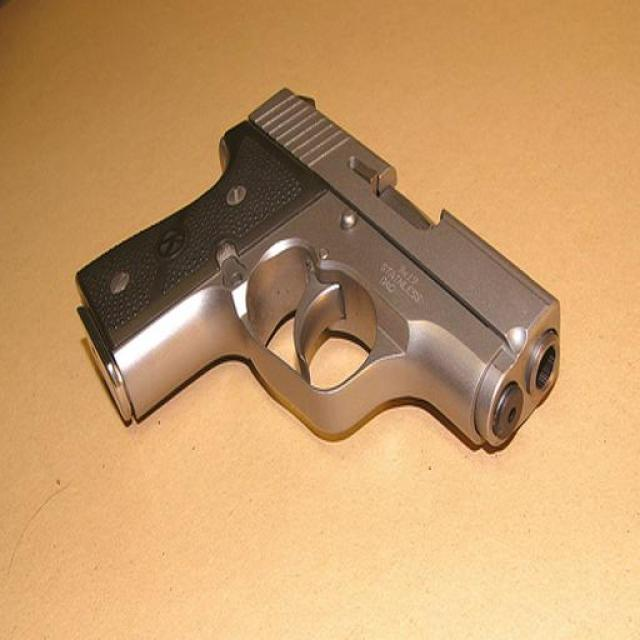pistol: (73, 90, 561, 450)
